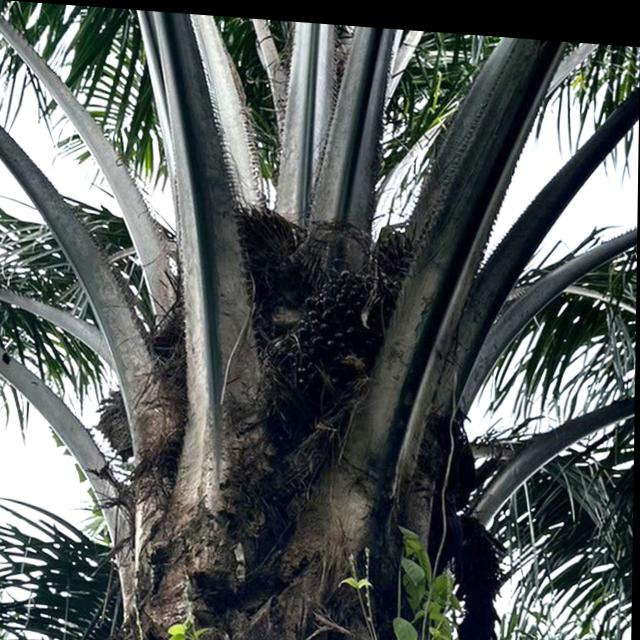almost: (228, 252, 404, 445)
